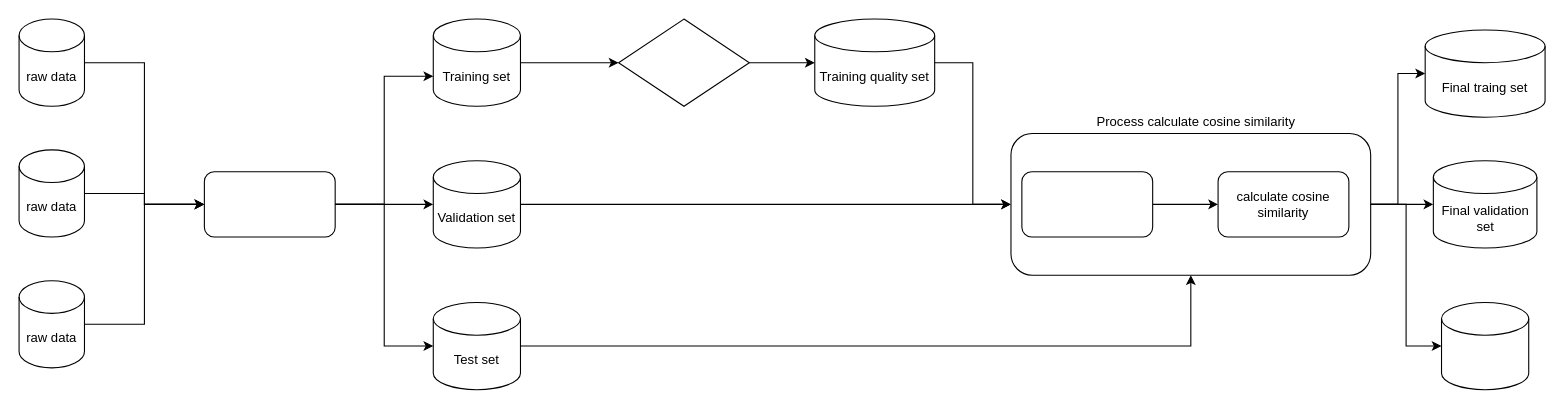
The diagram is 1564 pixels wide and 409 high, and some of its shapes have lost their labels. The centre of each missing label's shape, as x and y in pixels:
filter label =1: the point at 683,62
Final test set: the point at 1484,345
Pre-process data: the point at 269,204
Process encode data: the point at 1087,204
